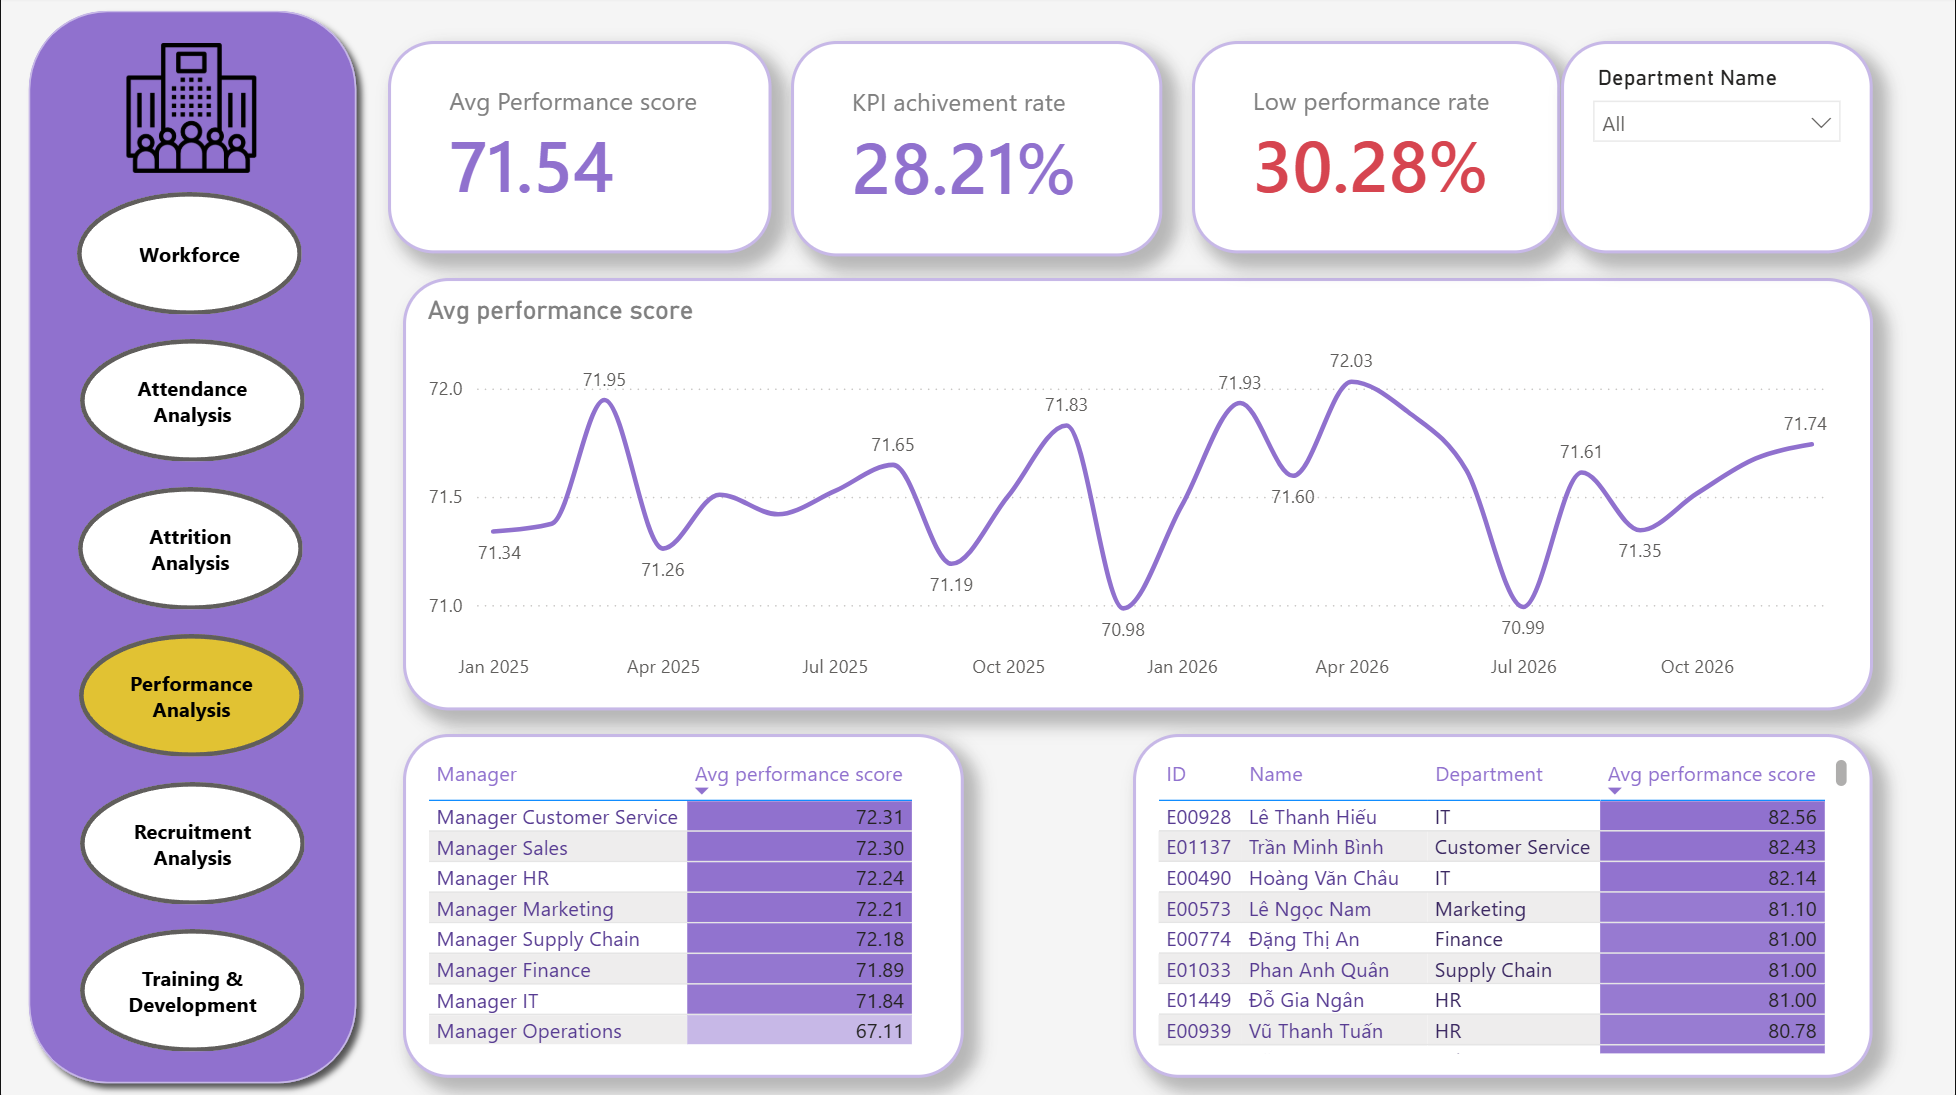

This screenshot's page, from the dashboard's own definition file:
{"tool":"powerbi","page":{"name":"Performance Analysis","canvas":[1280,720],"ordinal":3},"visuals":[{"type":"shape","box":[9.8,0,232.3,719.8],"z":0},{"type":"actionButton","box":[52.1,224.1,147.2,80.5],"z":1000},{"type":"actionButton","box":[50.8,320.5,147.2,80.5],"z":2000},{"type":"actionButton","box":[51.4,417,147.2,80.5],"z":3000},{"type":"actionButton","box":[52.1,513.4,147.2,80.5],"z":4000},{"type":"actionButton","box":[52.4,609.9,147.2,80.5],"z":5000},{"type":"cardVisual","fields":{"Data":["ALL MEASURES.Average_performance_score"]},"box":[253.9,28.8,251.3,138.7],"z":6000},{"type":"cardVisual","fields":{"Data":["ALL MEASURES.KPI_achievement_rate"]},"box":[517.6,28.8,242.8,140.7],"z":7000},{"type":"lineChart","title":"Avg performance score","fields":{"Category":["DateTable.Date.Variation.Date Hierarchy.Year","DateTable.Date.Variation.Date Hierarchy.Month","DateTable.Date.Variation.Date Hierarchy.Day"],"Y":["ALL MEASURES.Avg_performance_by_date"]},"box":[263.7,183.9,962,283.4],"z":8000},{"type":"tableEx","fields":{"Values":["Departments.Manager","ALL MEASURES.Average_performance_score"]},"box":[263.7,482.3,367.1,225.1],"z":9000},{"type":"actionButton","box":[50.1,127.6,147.2,80.5],"z":10000},{"type":"tableEx","fields":{"Values":["Employees.Employee ID","Employees.Employee Name","Departments.Department Name","ALL MEASURES.Avg_performance_per_employee"]},"box":[741.4,482.3,484.3,225.1],"z":11000},{"type":"cardVisual","fields":{"Data":["ALL MEASURES.Low_performers_rate"]},"box":[780,28.8,241.5,138.7],"z":12000},{"type":"slicer","fields":{"Values":["Departments.Department Name"]},"box":[1021.5,28.8,204.2,138.7],"z":13000},{"type":"image","box":[13.7,29.9,222.7,85.3],"z":14000}]}

Visuals, with their boxes in screenshot pixels (x1, y1, x2, y2), scaled from the page's 1280x720 canvas onto the 1956x1095 screenshot:
shape: bbox=(15, 0, 370, 1094)
actionButton: bbox=(80, 341, 305, 463)
actionButton: bbox=(78, 487, 303, 610)
actionButton: bbox=(79, 634, 303, 757)
actionButton: bbox=(80, 781, 305, 903)
actionButton: bbox=(80, 928, 305, 1050)
cardVisual - ALL MEASURES.Average_performance_score: bbox=(388, 44, 772, 255)
cardVisual - ALL MEASURES.KPI_achievement_rate: bbox=(791, 44, 1162, 258)
"Avg performance score" lineChart: bbox=(403, 280, 1873, 711)
tableEx - Departments.Manager x ALL MEASURES.Average_performance_score: bbox=(403, 733, 964, 1076)
actionButton: bbox=(77, 194, 301, 316)
tableEx - Employees.Employee ID x Employees.Employee Name: bbox=(1133, 733, 1873, 1076)
cardVisual - ALL MEASURES.Low_performers_rate: bbox=(1192, 44, 1561, 255)
slicer - Departments.Department Name: bbox=(1561, 44, 1873, 255)
image: bbox=(21, 45, 361, 175)
